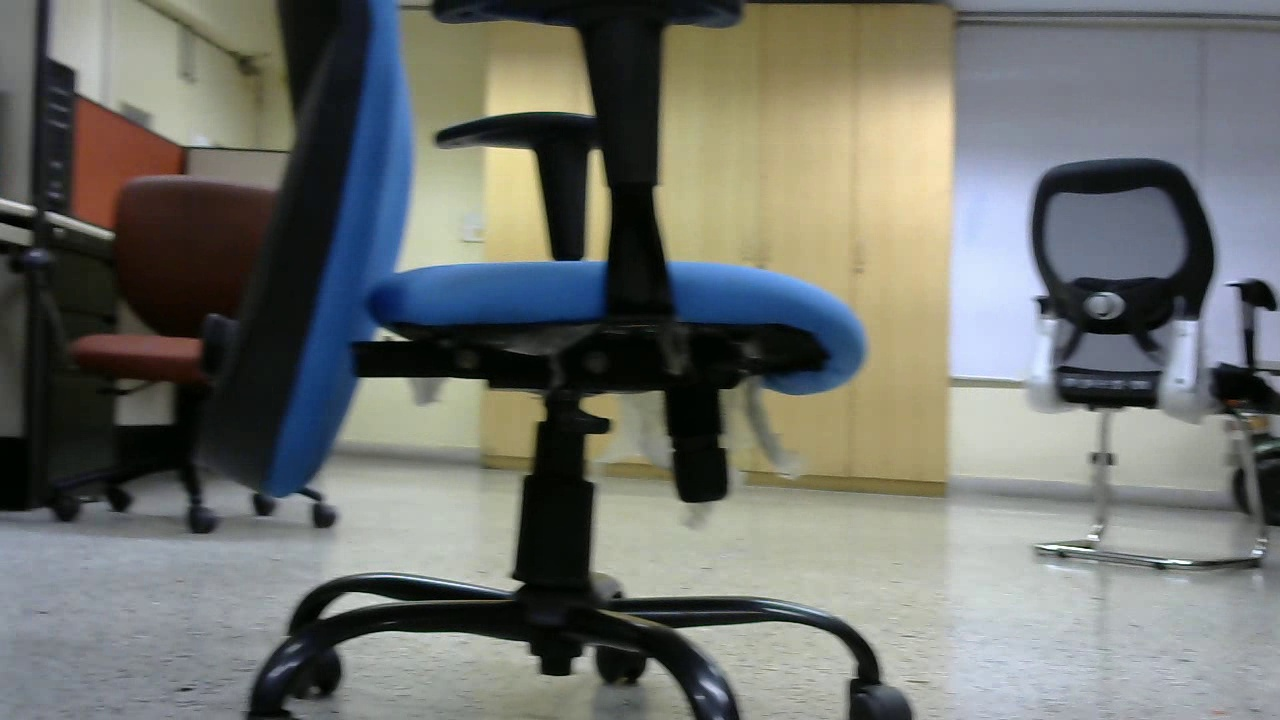chair: (268, 5, 904, 720), (29, 146, 346, 540)
